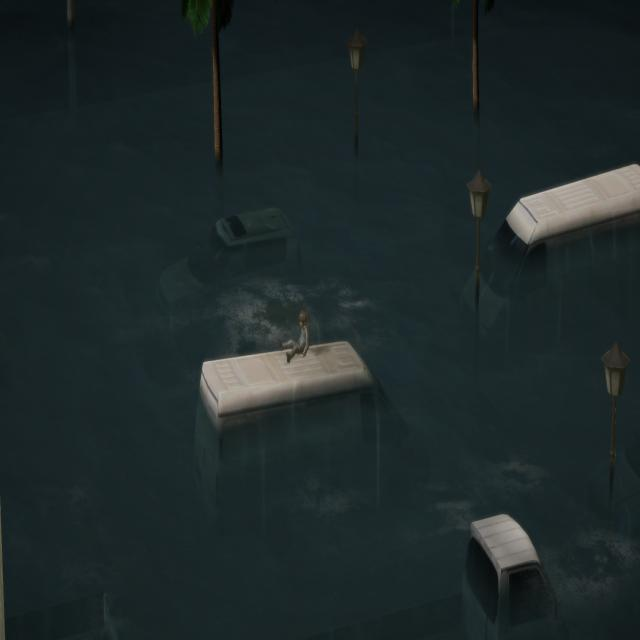Human: (277, 301, 313, 370)
